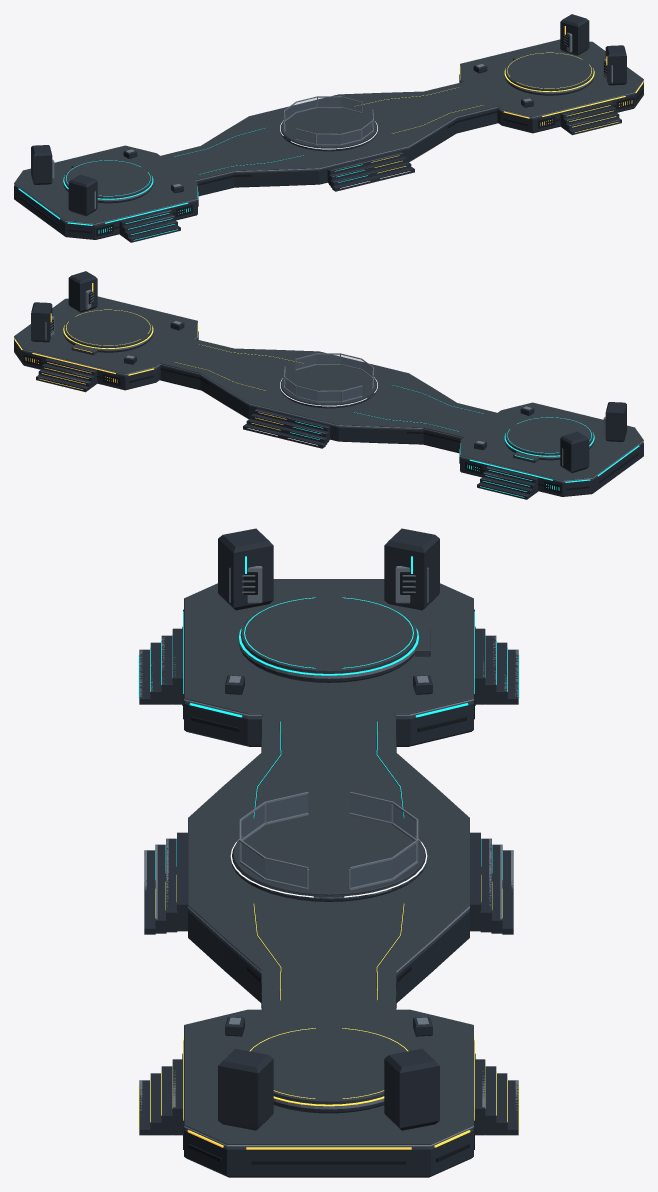
Rendered from stage-main-low.glb.
The picture shows the model from 3 angles, top to bottom: view 1: azimuth 30°, elevation 25°; view 2: azimuth 150°, elevation 25°; view 3: azimuth 270°, elevation 25°; orthographic projection. The views are drawn at different scales.
Visible parts, largest first — view 1: Stage satin composite, Stage graphite armour, Stage machined titanium, Stage basalt recess, Stage smoke glass, Stage amber inlay, Stage cyan inlay; view 2: Stage satin composite, Stage graphite armour, Stage machined titanium, Stage basalt recess, Stage smoke glass, Stage amber inlay, Stage cyan inlay; view 3: Stage satin composite, Stage graphite armour, Stage machined titanium, Stage smoke glass, Stage basalt recess, Stage cyan inlay, Stage amber inlay.
Boxes of the visible parts, x1=… form: Stage satin composite: x1=14, y1=39, x2=643, y2=223; Stage graphite armour: x1=14, y1=14, x2=643, y2=242; Stage machined titanium: x1=14, y1=32, x2=643, y2=238; Stage basalt recess: x1=19, y1=34, x2=643, y2=236; Stage smoke glass: x1=285, y1=98, x2=373, y2=144; Stage amber inlay: x1=354, y1=26, x2=643, y2=173; Stage cyan inlay: x1=18, y1=128, x2=367, y2=240; Stage satin composite: x1=14, y1=296, x2=643, y2=480; Stage graphite armour: x1=14, y1=271, x2=643, y2=499; Stage machined titanium: x1=14, y1=289, x2=643, y2=495; Stage basalt recess: x1=14, y1=291, x2=638, y2=493; Stage smoke glass: x1=284, y1=355, x2=372, y2=401; Stage amber inlay: x1=14, y1=283, x2=303, y2=430; Stage cyan inlay: x1=290, y1=385, x2=639, y2=497; Stage satin composite: x1=184, y1=579, x2=473, y2=1144; Stage graphite armour: x1=139, y1=528, x2=518, y2=1177; Stage machined titanium: x1=139, y1=566, x2=518, y2=1146; Stage smoke glass: x1=241, y1=794, x2=416, y2=887; Stage basalt recess: x1=182, y1=572, x2=475, y2=1164; Stage cyan inlay: x1=138, y1=556, x2=519, y2=879; Stage amber inlay: x1=138, y1=875, x2=519, y2=1149.
Size of the model in its own units: 42.11 by 3.4 by 11.95.
